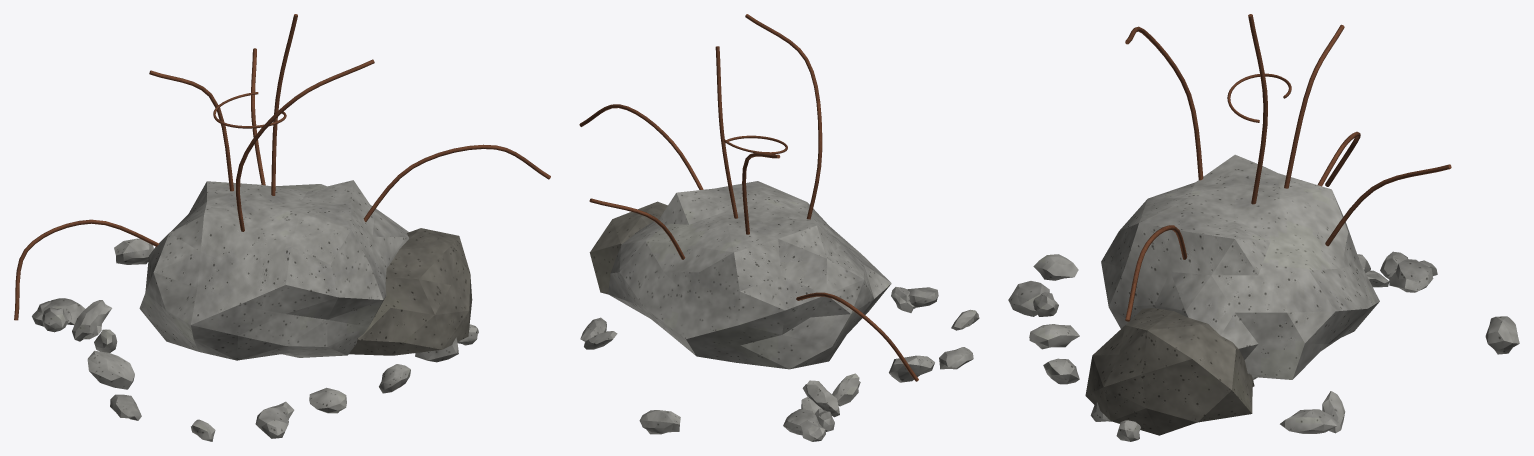
Rendered from rebar-concrete-chunk.glb.
The picture shows the model from 3 angles, left to right: view 1: azimuth 30°, elevation 25°; view 2: azimuth 150°, elevation 25°; view 3: azimuth 270°, elevation 25°; orthographic projection. The views are drawn at different scales.
Visible parts, largest first — view 1: Rebar_Concrete_Chunk; view 2: Rebar_Concrete_Chunk; view 3: Rebar_Concrete_Chunk.
Boxes of the visible parts, x1=… form: Rebar_Concrete_Chunk: x1=14, y1=14, x2=550, y2=441; Rebar_Concrete_Chunk: x1=579, y1=14, x2=979, y2=441; Rebar_Concrete_Chunk: x1=1008, y1=14, x2=1519, y2=441.
Bounding box in the file's own units: 1.91 × 1.31 × 1.67.
Materials: 3 (3 with a texture image).
